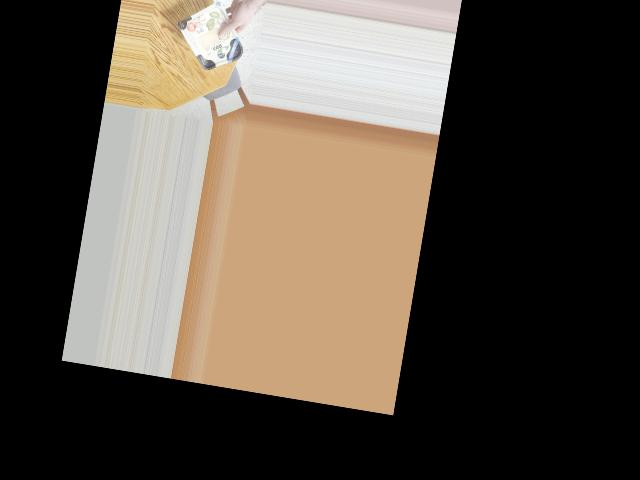cheese: (176, 7, 250, 75)
